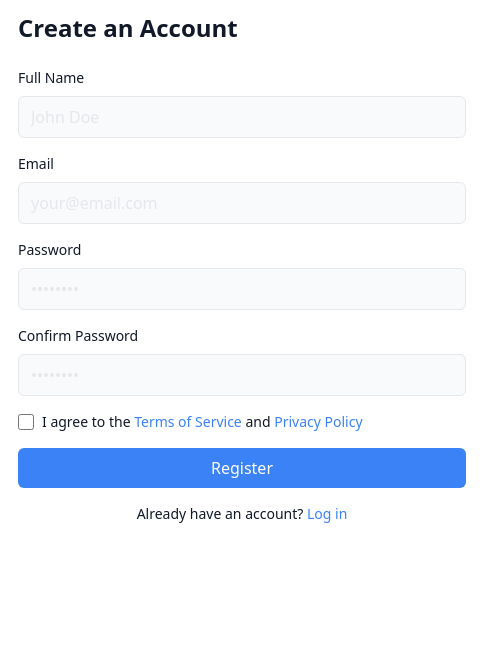
Test: RegisterForm › validates required fields
// Submit the form without filling any fields
Click the button "Register" at [242, 468], box [18, 448, 466, 488]
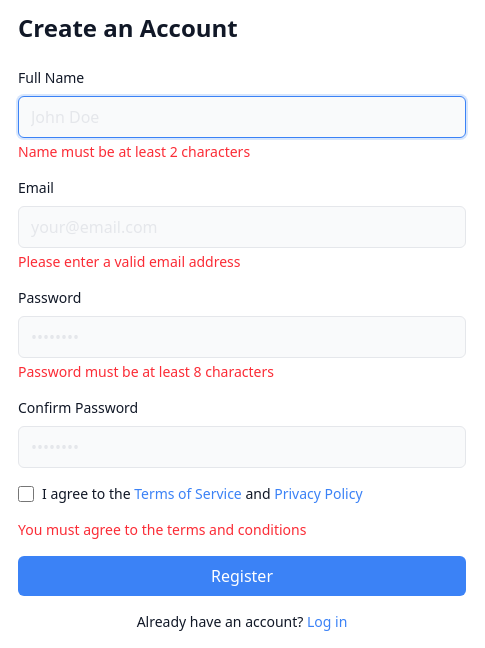
Check: the text "Name must be at least 2 characters" is shown, box [18, 142, 250, 161]
Check: the text "Please enter a valid email address" is shown, box [18, 252, 240, 271]
Check: the text "Password must be at least 8 characters" is shown, box [18, 362, 274, 381]
